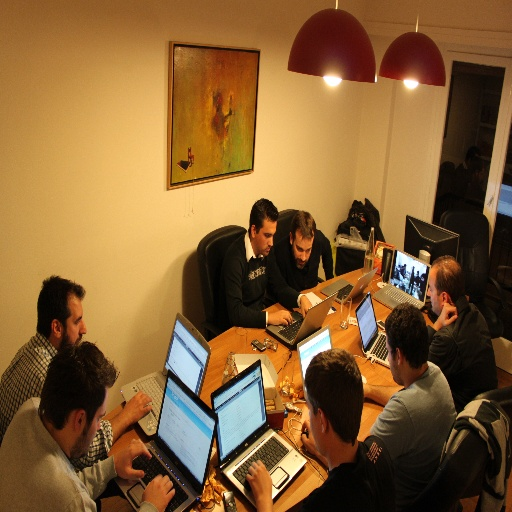hand: (112, 438, 151, 482), (141, 471, 176, 511), (244, 458, 273, 502), (124, 390, 152, 426), (301, 416, 318, 453), (266, 308, 292, 328), (437, 302, 457, 328), (300, 295, 314, 319)
